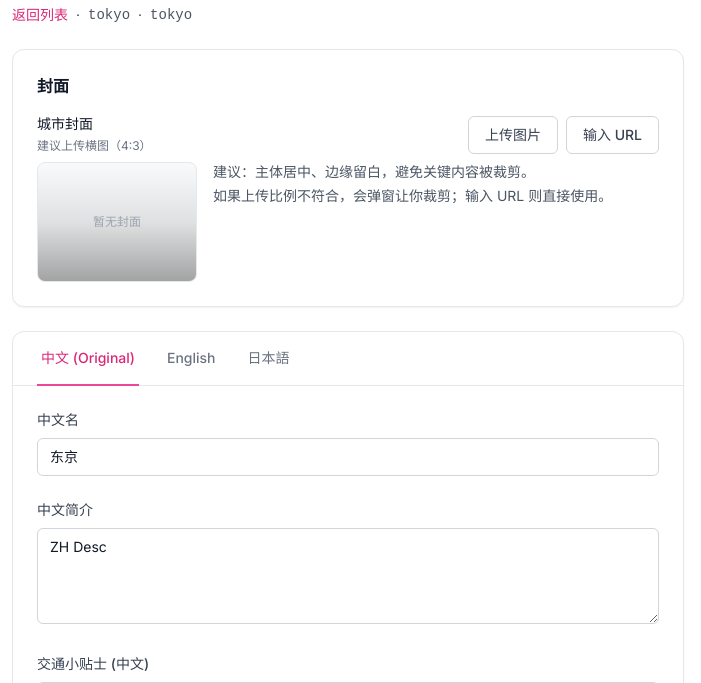
Test: admin city detail ui › allows admin to switch languages and edit fields
Expected: the field showing "东京" is shown, x1=37 y1=438 x2=659 y2=476
Expected: the text box showing "ZH Desc" below "中文简介" is shown, x1=37 y1=528 x2=659 y2=624
Click the button "日本語" at (268, 359), box x1=244 y1=332 x2=294 y2=386
(page scrolled)
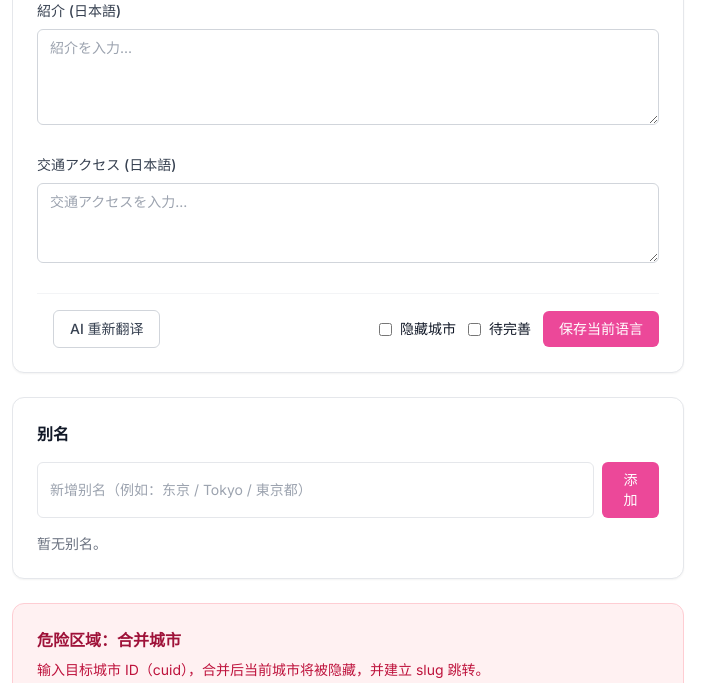
Result: the button "AI 重新翻译" is shown at x1=53 y1=310 x2=160 y2=348
